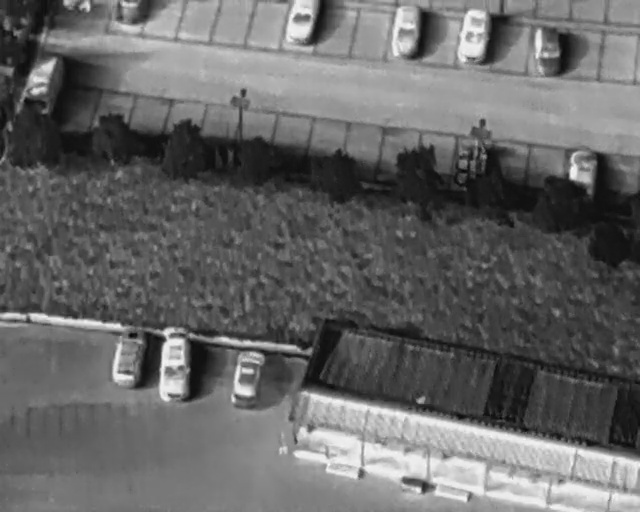Car: (453, 5, 495, 68), (109, 324, 149, 390), (228, 346, 269, 408), (161, 326, 191, 401), (391, 5, 422, 60), (286, 1, 319, 45), (535, 25, 558, 77), (570, 152, 596, 195)
OtherVehicle: (14, 49, 72, 122)
